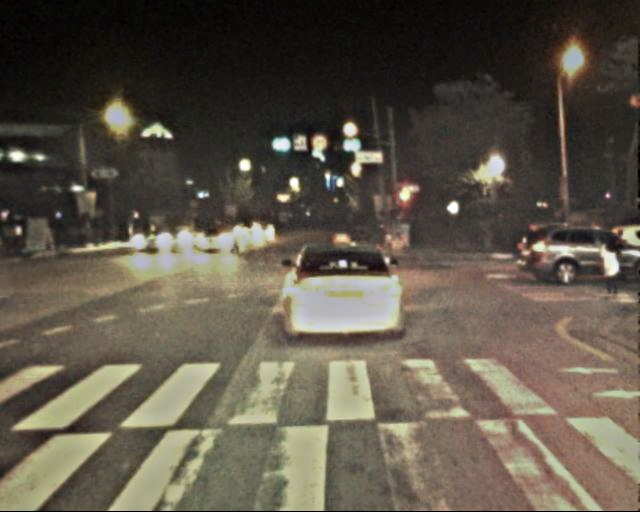person: (593, 232, 623, 306)
